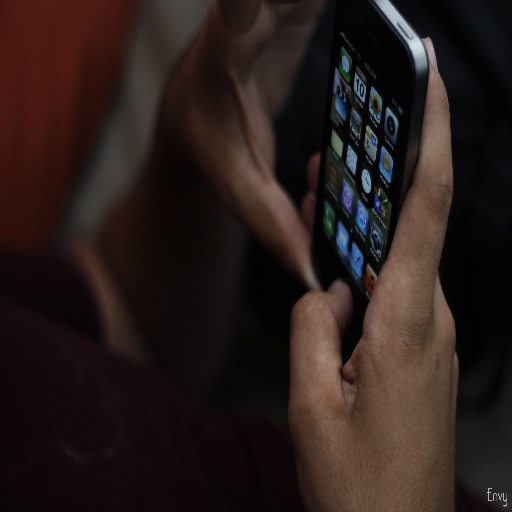hand: (321, 88, 460, 512), (156, 0, 320, 296)
